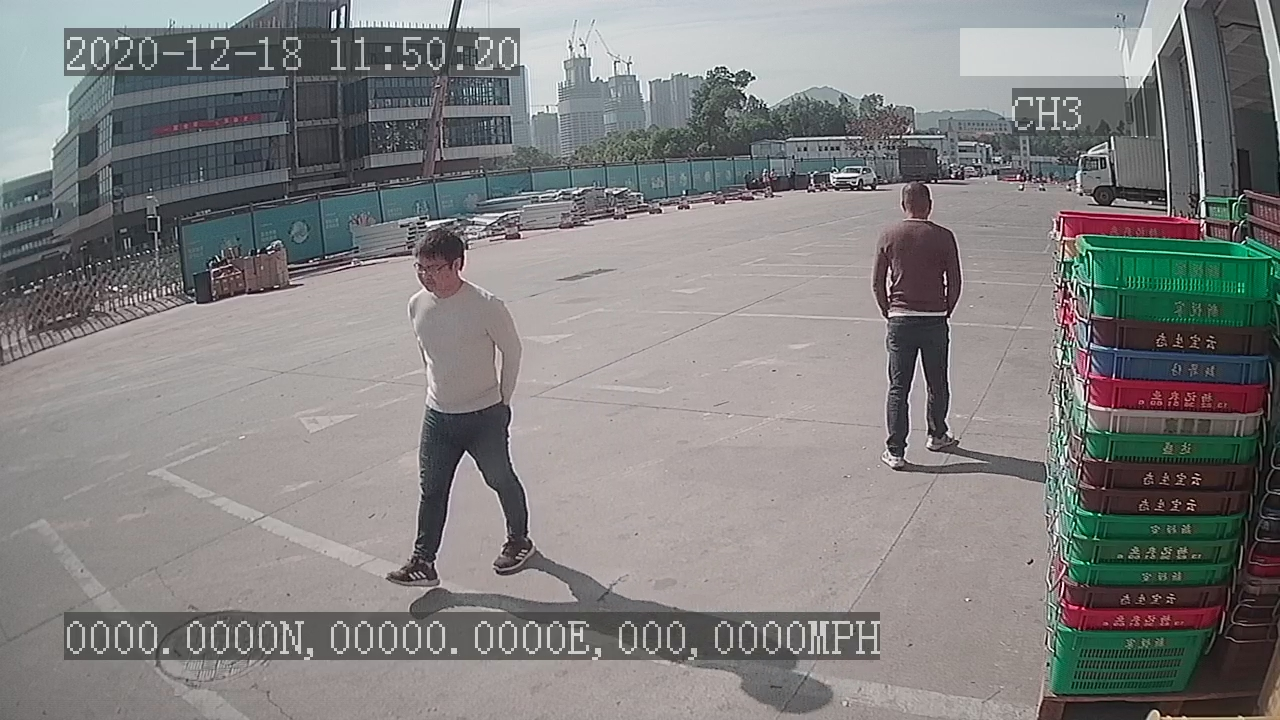person: (384, 227, 538, 592), (868, 179, 965, 474)
